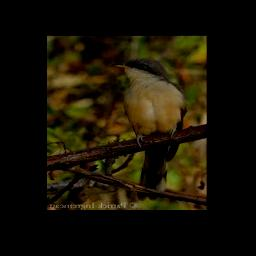Cuckoo: (111, 59, 189, 201)
